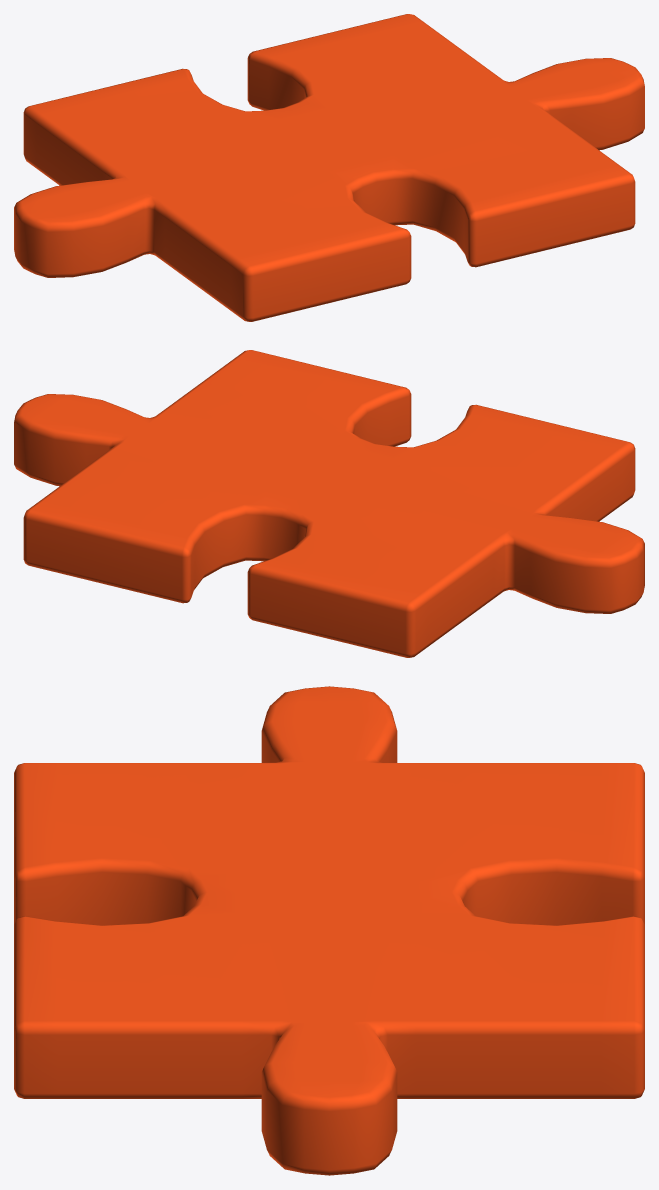
File: Store_9_Puzzle_2.glb
3 renders of one model, top to bottom at view 1: azimuth 30°, elevation 25°; view 2: azimuth 150°, elevation 25°; view 3: azimuth 270°, elevation 25°, orthographic. The views are drawn at different scales.
Visible parts, largest first — view 1: Store_9_Puzzle_2; view 2: Store_9_Puzzle_2; view 3: Store_9_Puzzle_2.
Part boxes in pixels (x1,y1,x2,y2): Store_9_Puzzle_2: [14, 14, 644, 321]; Store_9_Puzzle_2: [14, 350, 644, 657]; Store_9_Puzzle_2: [14, 686, 644, 1175].
Bounding box in the file's own units: 2.06 × 0.1778 × 1.31.
1 material, 1 textured.
